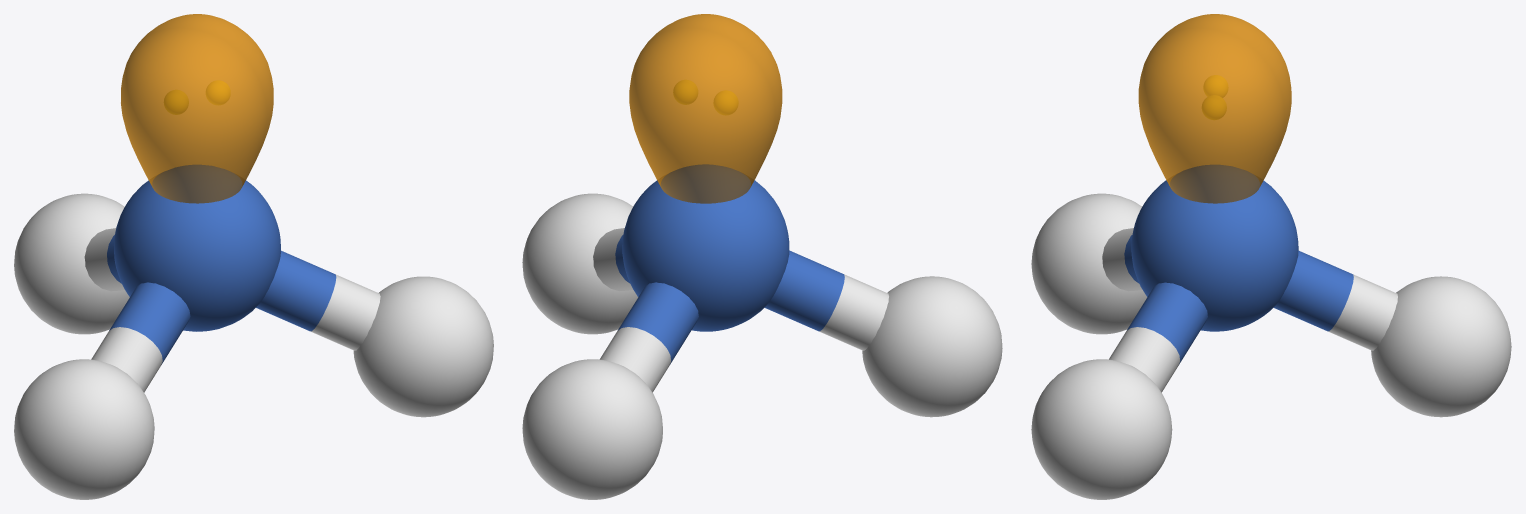
3 renders of one model, left to right at view 1: azimuth 30°, elevation 25°; view 2: azimuth 150°, elevation 25°; view 3: azimuth 270°, elevation 25°, orthographic.
Visible parts, largest first — view 1: 对象002; view 2: 对象002; view 3: 对象002.
Boxes of the visible parts, x1,y1,x2,y2 form: 对象002: (14,14,493,499); 对象002: (522,14,1002,499); 对象002: (1031,14,1511,499).
Bounding box in the file's own units: 44.35 × 35.89 × 39.98.
2 materials, 2 textured.
